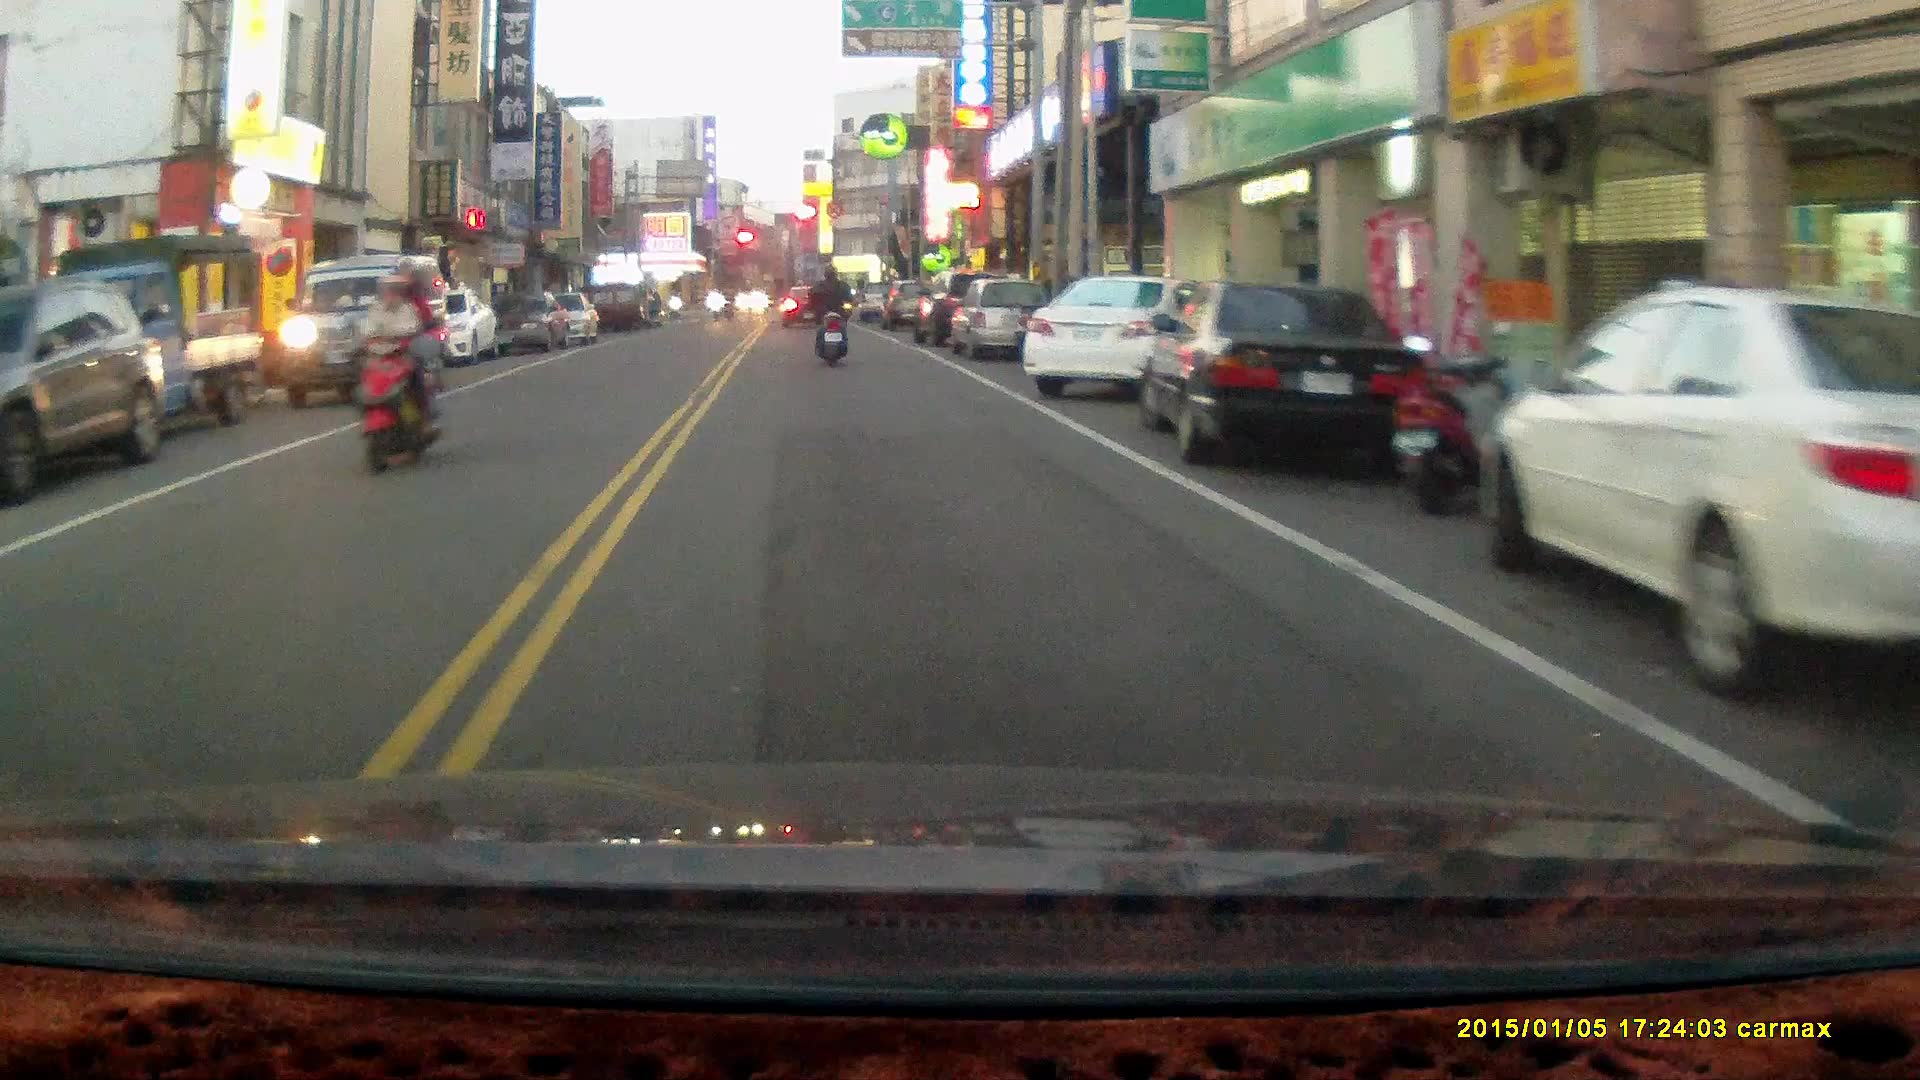rider: (352, 255, 445, 478), (805, 261, 852, 369)
vehicle: (1498, 287, 1920, 710), (1138, 278, 1427, 468), (37, 242, 276, 456), (1, 280, 174, 503), (1021, 273, 1213, 404), (284, 257, 445, 404), (955, 279, 1059, 368)
